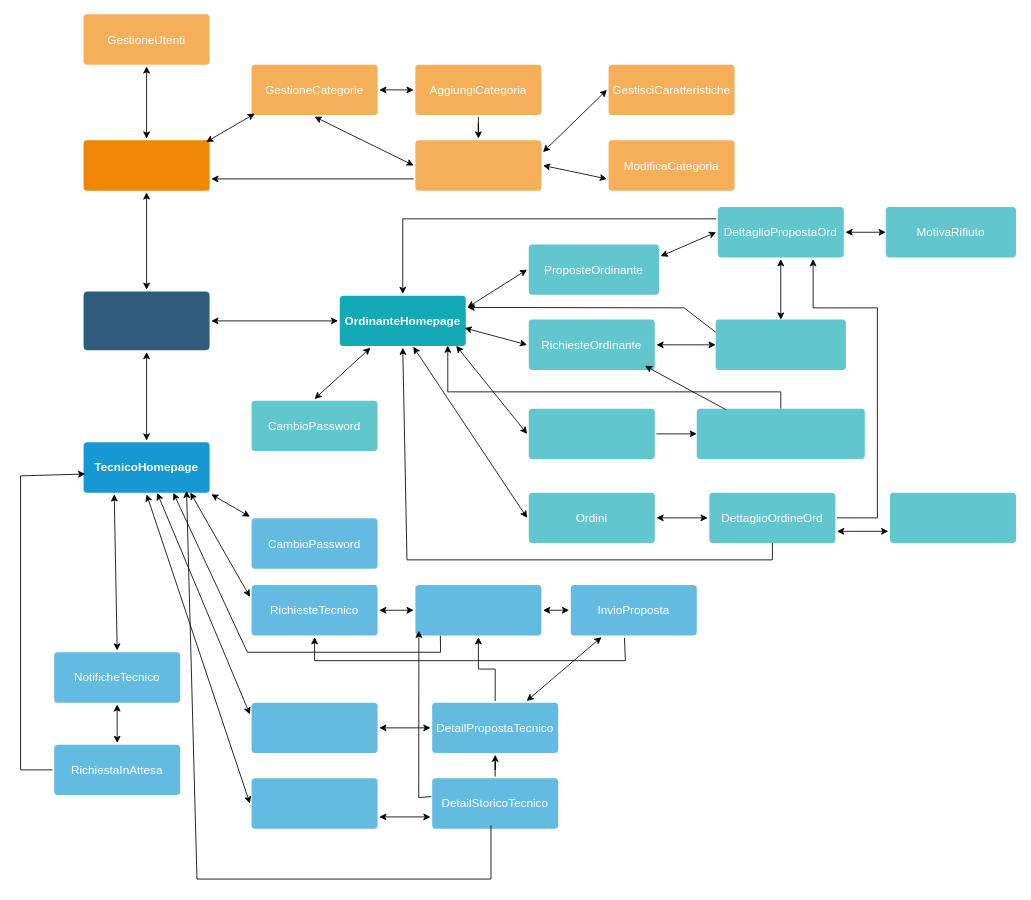
The diagram is 1031 pixels wide and 900 high, and some of its shapes have lost their labels. Here are the shapes that lost their labels. From the top down, the centre of each, then its label:
At point (146, 165): "AdminHomepage".
At point (478, 165): "CategoriaController".
At point (146, 320): "Login".
At point (780, 344): "DettaglioRichiestaord".
At point (591, 433): "NuovaRichiesta".
At point (780, 433): "NuovaRichiestaCaratteristiche".
At point (953, 517): "RifiutoOrdine".
At point (478, 610): "DetailRichiestaTecnico".
At point (314, 727): "ProposteTecnico".
At point (314, 803): "StoricoTecnico".
